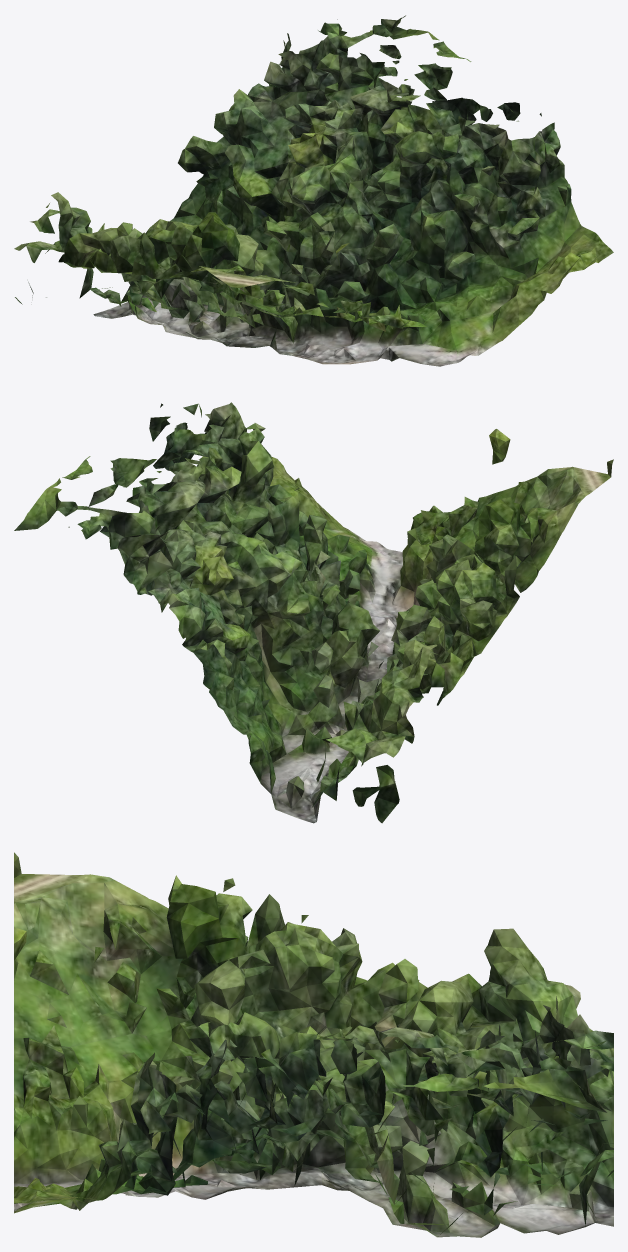
3 renders of one model, top to bottom at view 1: azimuth 30°, elevation 25°; view 2: azimuth 150°, elevation 25°; view 3: azimuth 270°, elevation 25°, orthographic. The views are drawn at different scales.
Size of the model in its own units: 104 by 61.82 by 104.
Materials: 7 (7 with a texture image).
